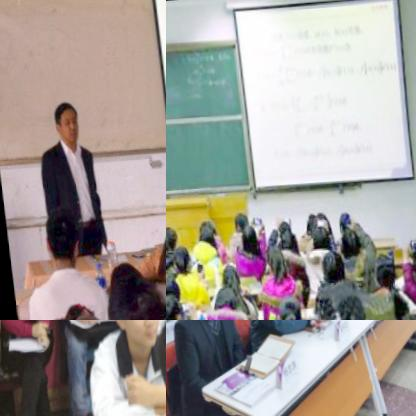head: (36, 202, 80, 270), (98, 282, 150, 320), (102, 320, 161, 351), (46, 99, 76, 145), (366, 249, 396, 293), (41, 293, 89, 320), (330, 287, 365, 320), (315, 248, 344, 286), (270, 290, 301, 320), (336, 223, 361, 259), (212, 280, 237, 313), (262, 240, 283, 277), (217, 262, 239, 293), (399, 231, 416, 271), (168, 244, 188, 274), (308, 223, 328, 253), (235, 219, 254, 250), (195, 220, 214, 248), (273, 220, 291, 248), (166, 293, 183, 320), (231, 208, 247, 234), (166, 275, 177, 307), (166, 222, 174, 252)
